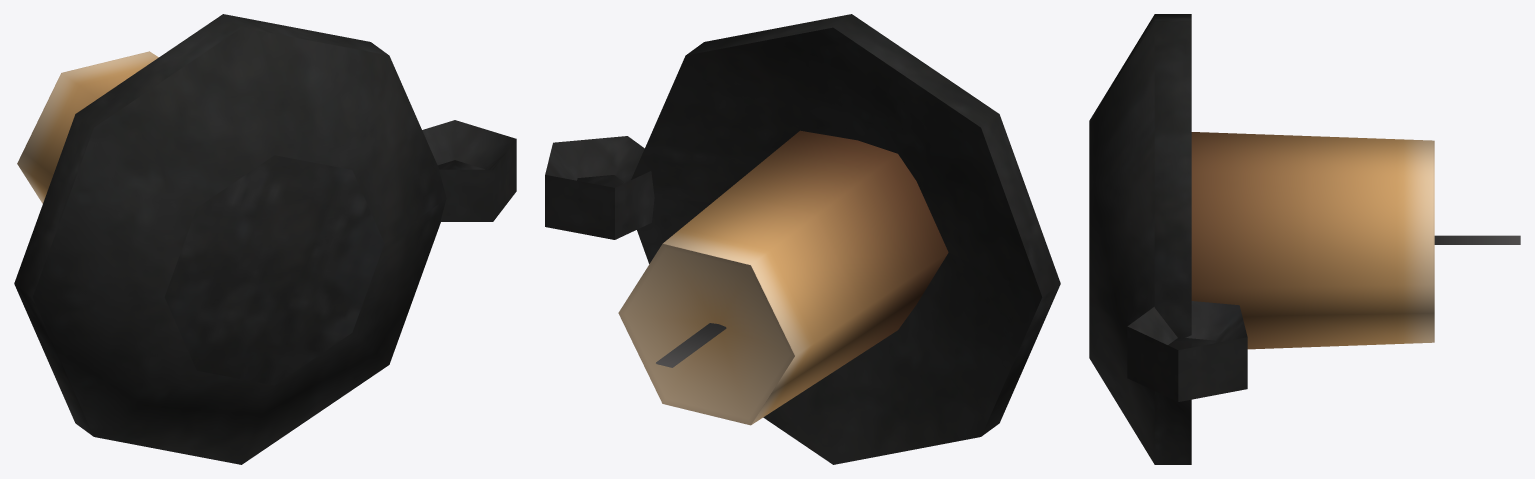
The model's file is Candle_Holder.fbx.
3 views of the same model, side by side, from view 1: azimuth 30°, elevation 25°; view 2: azimuth 150°, elevation 25°; view 3: azimuth 270°, elevation 25° (orthographic).
Visible parts, largest first — view 1: Candle_Holder; view 2: Candle_Holder; view 3: Candle_Holder.
Boxes of the visible parts, x1=… form: Candle_Holder: x1=14, y1=14, x2=516, y2=464; Candle_Holder: x1=545, y1=14, x2=1060, y2=464; Candle_Holder: x1=1089, y1=14, x2=1520, y2=464.
Size of the model in its own units: 0.3889 by 0.3277 by 0.2945.
